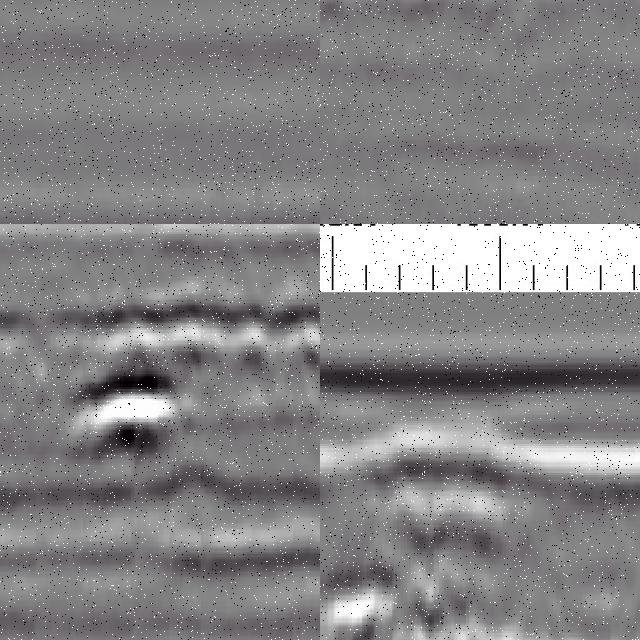loose: (56, 287, 321, 454), (336, 434, 532, 640), (321, 1, 589, 67)
